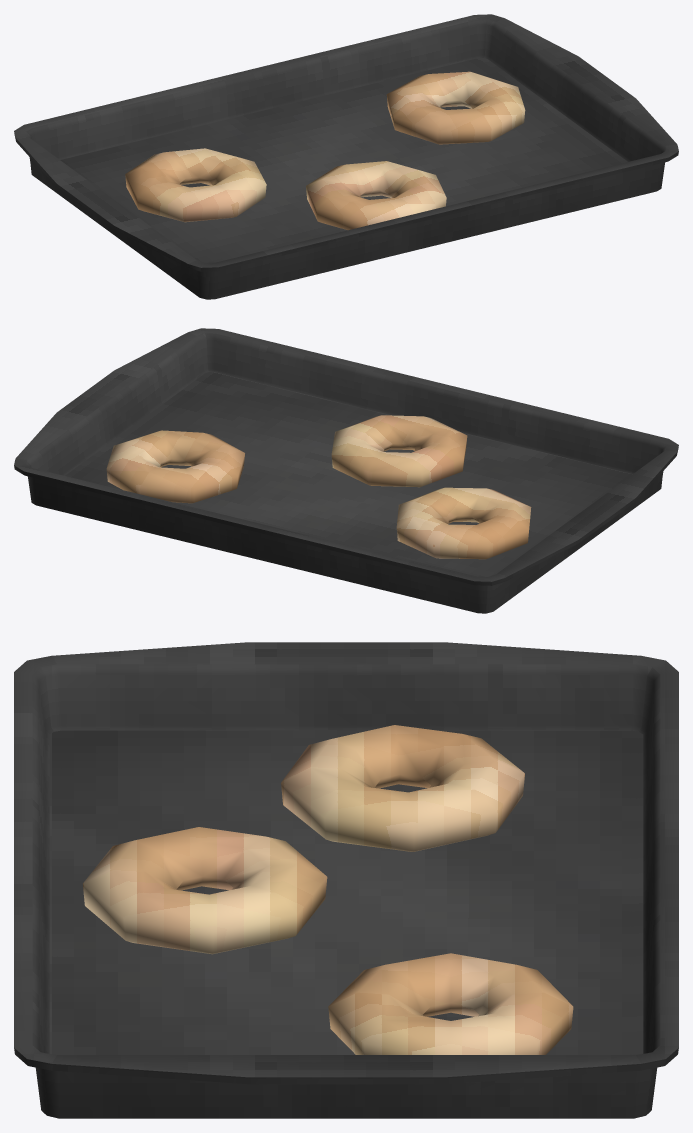
The model's file is BakingTrayBagel.fbx.
3 views of the same model, one above another, from view 1: azimuth 30°, elevation 25°; view 2: azimuth 150°, elevation 25°; view 3: azimuth 270°, elevation 25° (orthographic). The views are drawn at different scales.
Visible parts, largest first — view 1: BagelTray; view 2: BagelTray; view 3: BagelTray.
Boxes of the visible parts, x1,y1,x2,y2 form: BagelTray: [14, 14, 678, 299]; BagelTray: [14, 328, 678, 613]; BagelTray: [14, 642, 678, 1118].
Size of the model in its own units: 102 by 7.31 by 66.19.
